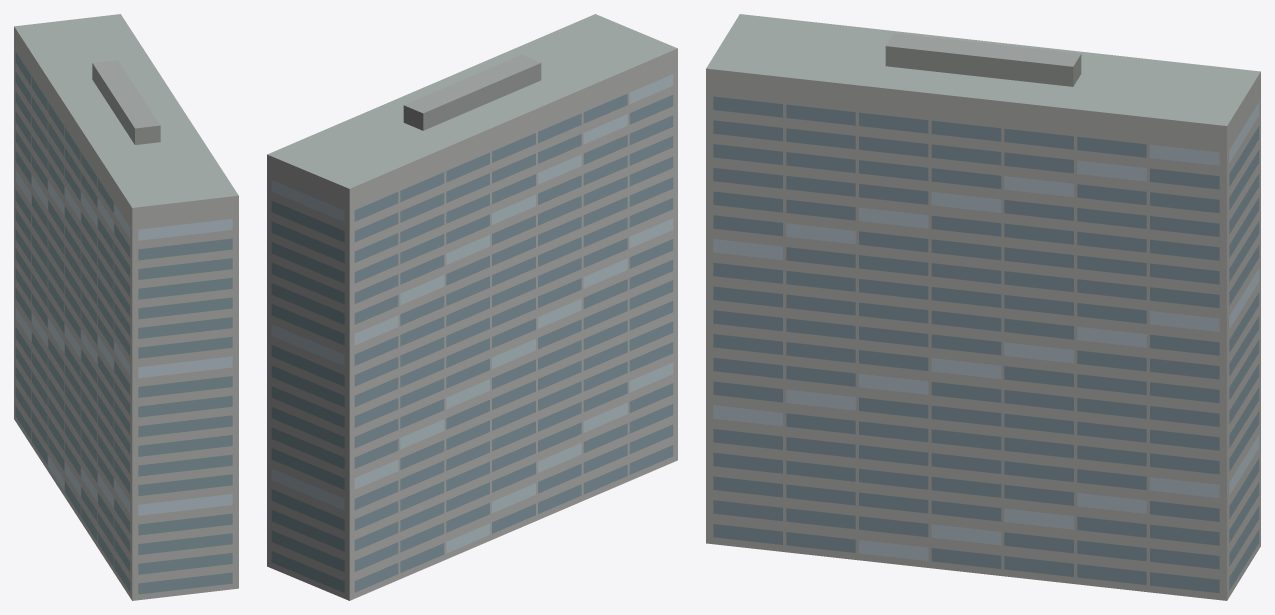
File: fallback-dmc-raemian-e-pyeonhansesang-210.glb
3 renders of one model, left to right at view 1: azimuth 30°, elevation 25°; view 2: azimuth 150°, elevation 25°; view 3: azimuth 270°, elevation 25°, orthographic. The views are drawn at different scales.
Visible parts, largest first — view 1: fallback-dmc-raemian-e-pyeonhansesang-210; view 2: fallback-dmc-raemian-e-pyeonhansesang-210; view 3: fallback-dmc-raemian-e-pyeonhansesang-210.
Part boxes in pixels (left/top/right/bottom): fallback-dmc-raemian-e-pyeonhansesang-210: left=14, top=14, right=238, bottom=600; fallback-dmc-raemian-e-pyeonhansesang-210: left=267, top=14, right=677, bottom=600; fallback-dmc-raemian-e-pyeonhansesang-210: left=706, top=14, right=1260, bottom=600.
Size of the model in its own units: 28.66 by 59 by 59.94.
